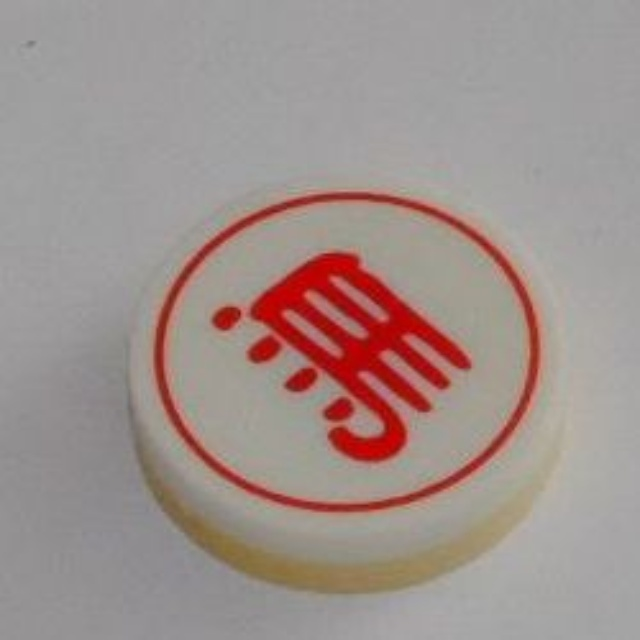red_ma: (106, 159, 584, 599)
